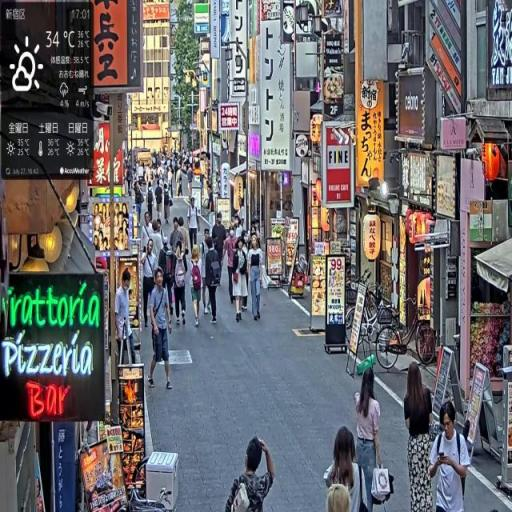person: (354, 362, 393, 512), (427, 400, 473, 512), (403, 361, 437, 512), (323, 425, 369, 512), (226, 438, 277, 512), (148, 267, 175, 393), (115, 269, 140, 370), (204, 236, 223, 326), (233, 234, 251, 323), (143, 240, 160, 333), (189, 245, 206, 330), (248, 233, 264, 322), (187, 195, 201, 254)
